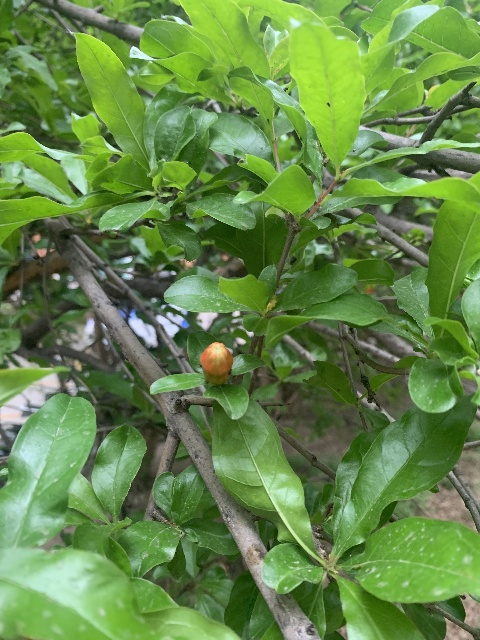bud: (200, 341, 232, 385)
